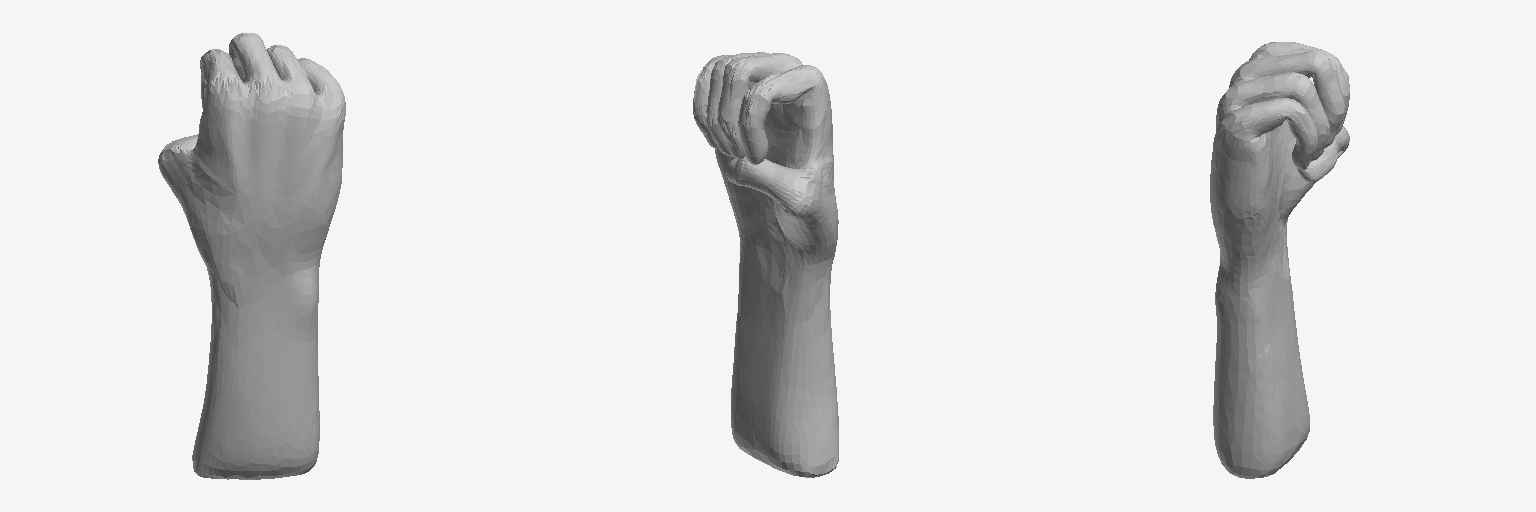
The model's file is maine.obj.
3 views of the same model, side by side, from view 1: azimuth 30°, elevation 25°; view 2: azimuth 150°, elevation 25°; view 3: azimuth 270°, elevation 25° (orthographic).
Visible parts, largest first — view 1: ZBrush_defualt_group; view 2: ZBrush_defualt_group; view 3: ZBrush_defualt_group.
Part boxes in pixels (x1,y1,x2,y2): ZBrush_defualt_group: (158,33,345,479); ZBrush_defualt_group: (693,52,838,477); ZBrush_defualt_group: (1210,42,1349,478).
Bounding box in the file's own units: 2.69 × 7.64 × 2.34.